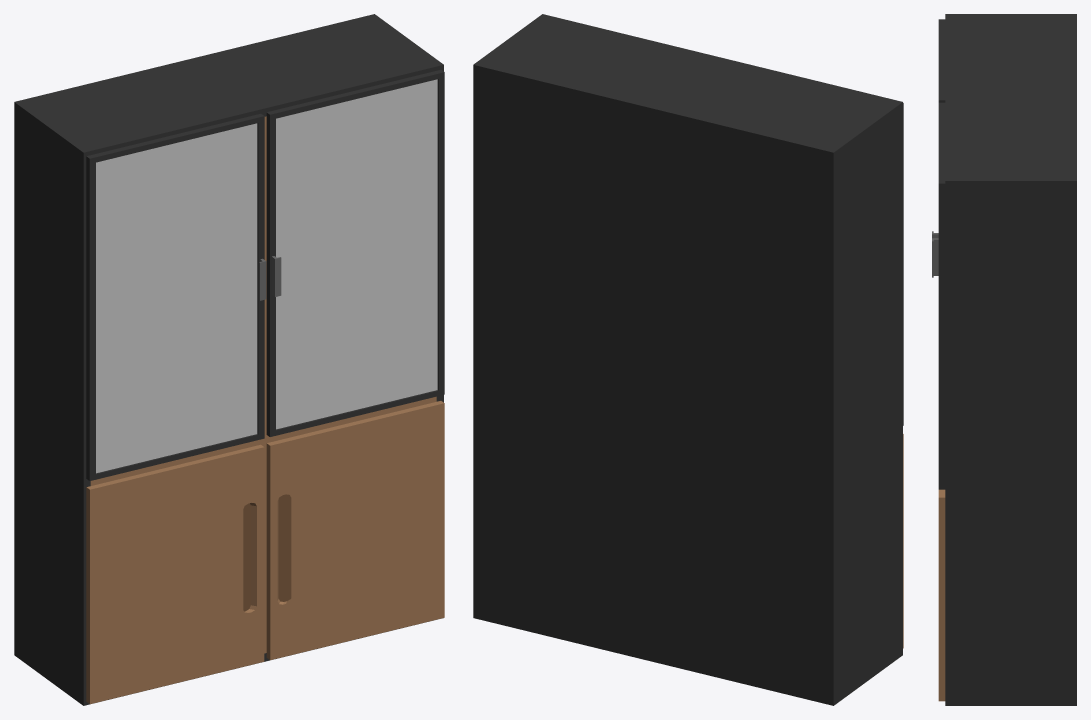
The model's file is Int_Cabinet01_2.fbx.
3 renders of one model, left to right at view 1: azimuth 30°, elevation 25°; view 2: azimuth 150°, elevation 25°; view 3: azimuth 270°, elevation 25°, orthographic. The views are drawn at different scales.
Parts seen in each view (by area): view 1: Int_Cabinet01_2, Int_CabinetDoor03, Int_CabinetDoor04, Int_CabinetDoor01, Int_CabinetDoor02; view 2: Int_Cabinet01_2; view 3: Int_Cabinet01_2, Int_CabinetDoor04, Int_CabinetDoor02, Int_CabinetDoor03.
Boxes of the visible parts, x1=… form: Int_Cabinet01_2: x1=14, y1=14, x2=443, y2=705; Int_CabinetDoor03: x1=86, y1=113, x2=266, y2=480; Int_CabinetDoor04: x1=266, y1=69, x2=444, y2=436; Int_CabinetDoor01: x1=86, y1=444, x2=264, y2=703; Int_CabinetDoor02: x1=266, y1=401, x2=444, y2=660; Int_Cabinet01_2: x1=473, y1=14, x2=902, y2=705; Int_Cabinet01_2: x1=945, y1=14, x2=1076, y2=705; Int_CabinetDoor04: x1=932, y1=102, x2=945, y2=489; Int_CabinetDoor02: x1=938, y1=489, x2=945, y2=701; Int_CabinetDoor03: x1=932, y1=19, x2=945, y2=238.
Size of what is drawn, in the model's own units: 150 by 54.95 by 220.
